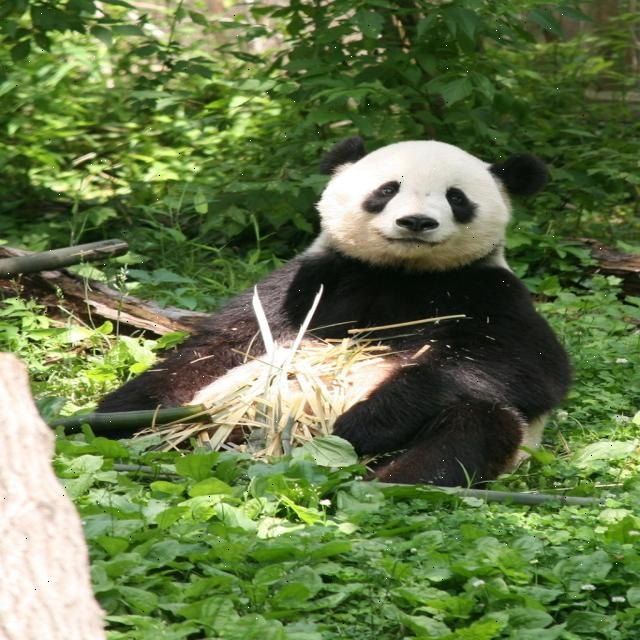panda: (62, 134, 573, 492)
